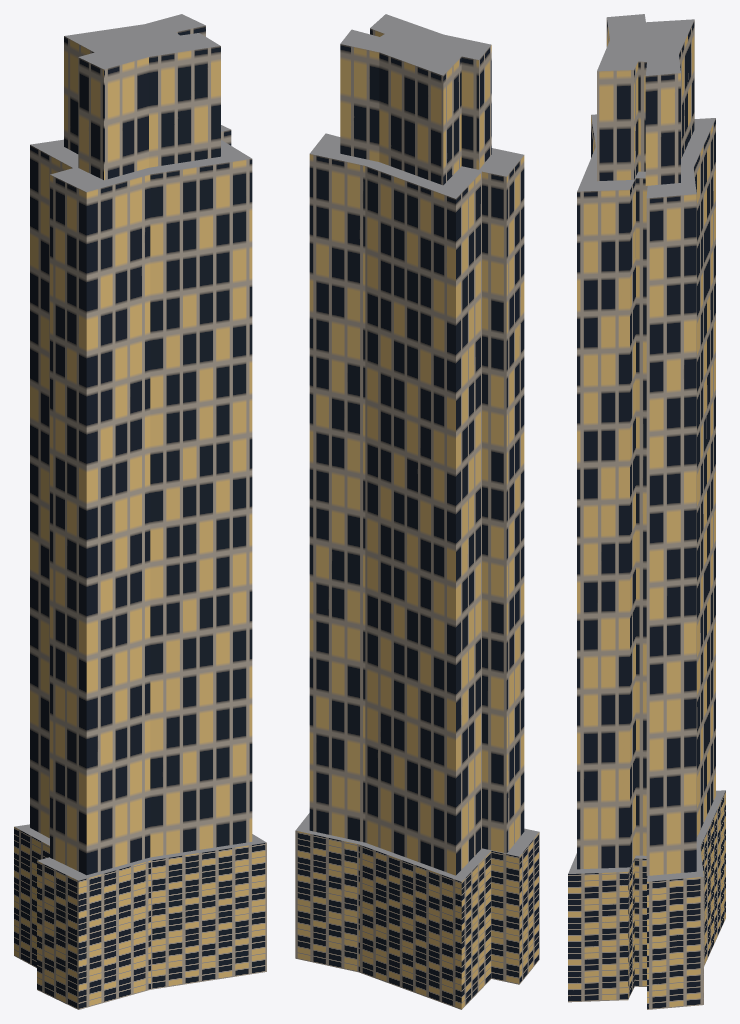
The model's file is gladwin-tower.glb.
3 renders of one model, left to right at view 1: azimuth 30°, elevation 25°; view 2: azimuth 150°, elevation 25°; view 3: azimuth 270°, elevation 25°, orthographic.
Parts seen in each view (by area): view 1: gladwin-tower; view 2: gladwin-tower; view 3: gladwin-tower.
Part boxes in pixels (x1,y1,x2,y2): gladwin-tower: [14, 14, 266, 1009]; gladwin-tower: [295, 14, 539, 1009]; gladwin-tower: [568, 14, 725, 1009].
Size of the model in its own units: 0.3837 by 1.64 by 0.2557.
2 materials, 1 textured.
